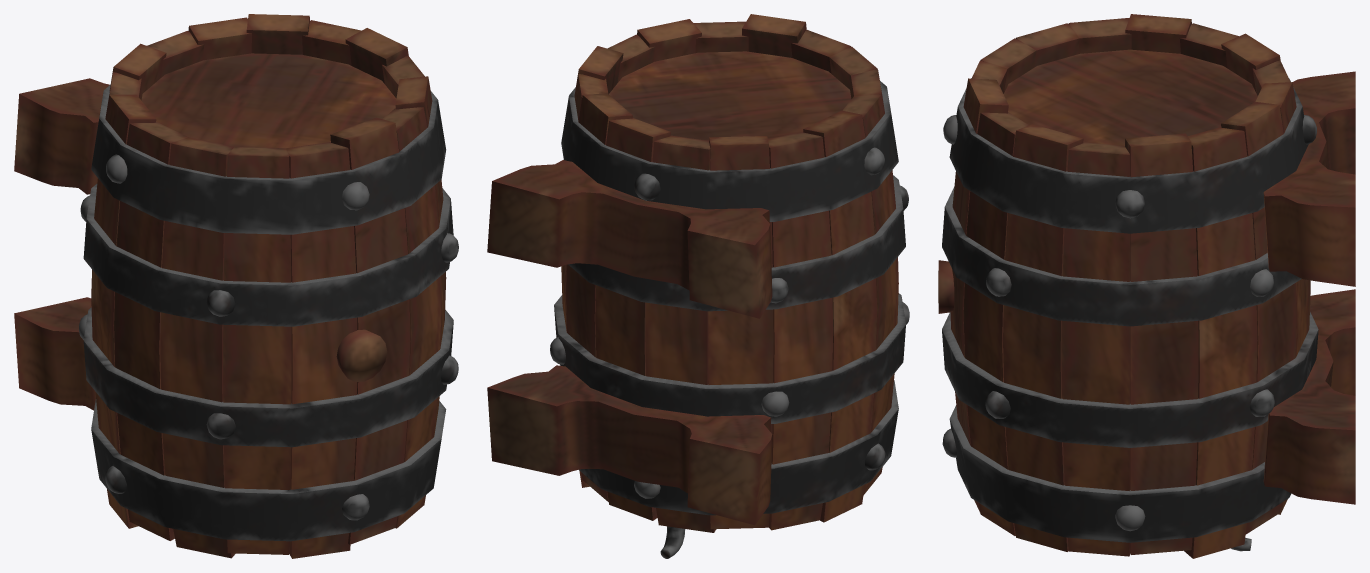
The model's file is stylized-barrel-9e70b5.glb.
3 renders of one model, left to right at view 1: azimuth 30°, elevation 25°; view 2: azimuth 150°, elevation 25°; view 3: azimuth 270°, elevation 25°, orthographic. The views are drawn at different scales.
Parts seen in each view (by area): view 1: PropMesh; view 2: PropMesh; view 3: PropMesh.
Part boxes in pixels (x1=…): PropMesh: x1=14, y1=14, x2=458, y2=558; PropMesh: x1=487, y1=14, x2=909, y2=558; PropMesh: x1=938, y1=14, x2=1355, y2=558.
Size of the model in its own units: 1.6 by 2.2 by 1.78.
1 material, 1 textured.
